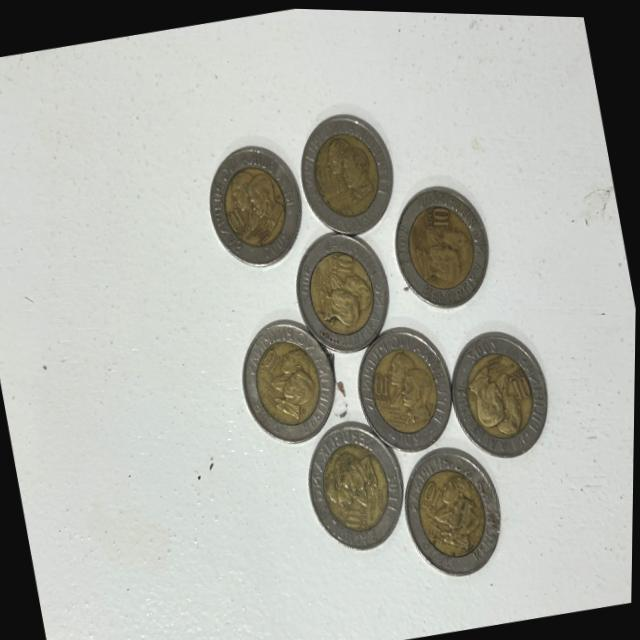10_Old_Front: (318, 132, 377, 197), (503, 359, 538, 407), (417, 469, 448, 514), (422, 197, 458, 233), (223, 200, 254, 240), (340, 492, 373, 529), (368, 362, 397, 404), (327, 244, 357, 275), (256, 342, 283, 376), (328, 251, 338, 261)
